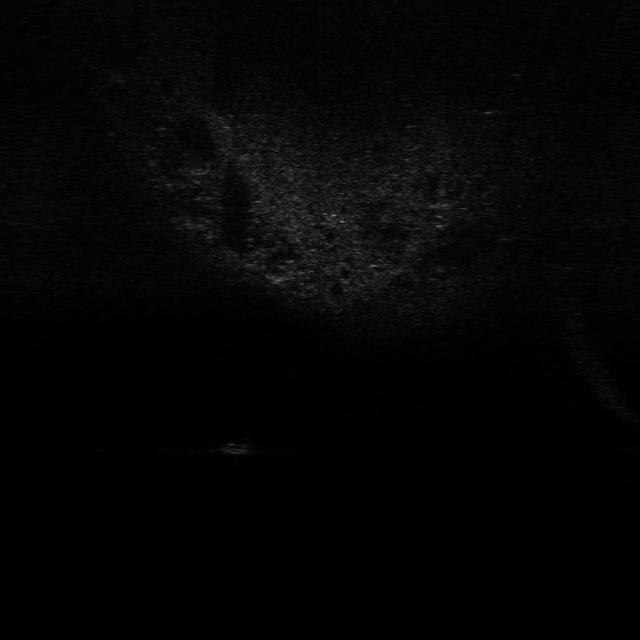cube: (216, 438, 260, 458)
